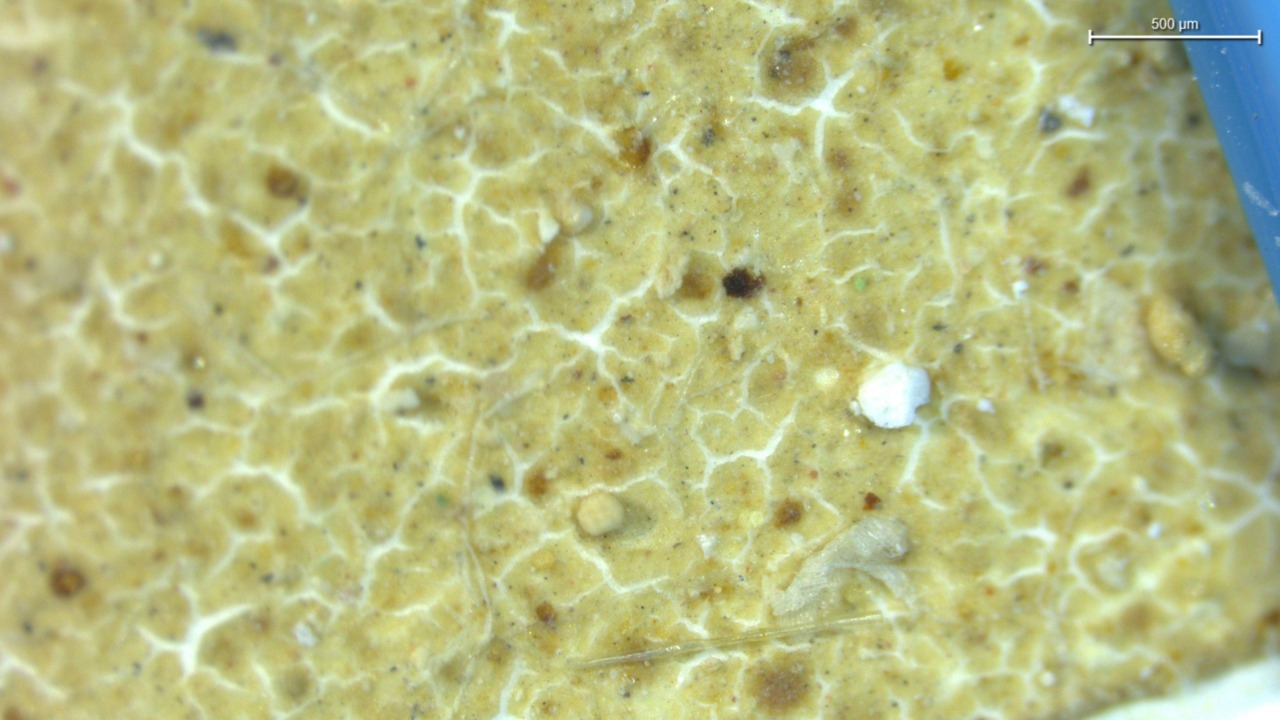microplastic_fragment: (852, 362, 931, 429)
